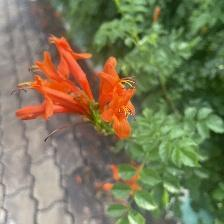honeysuckle: (101, 52, 142, 142)
